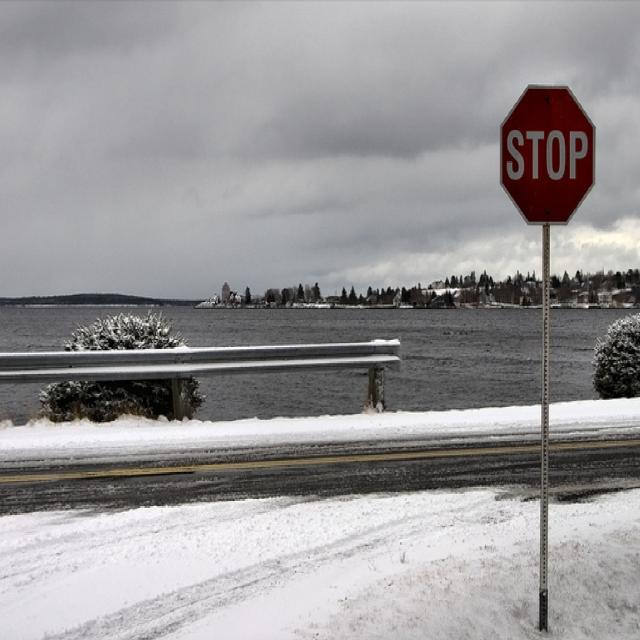STOP: (498, 84, 594, 228)
